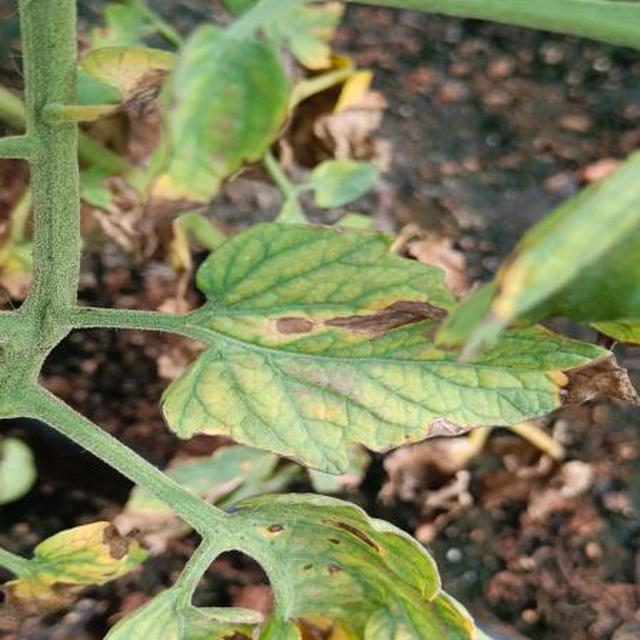Early Blight Leaf: (245, 313, 640, 640)
